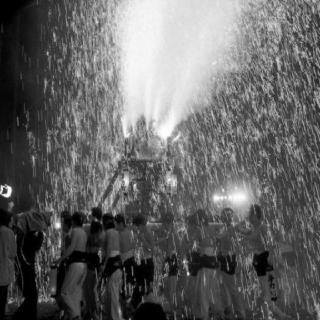Fire: (210, 180, 256, 212)
